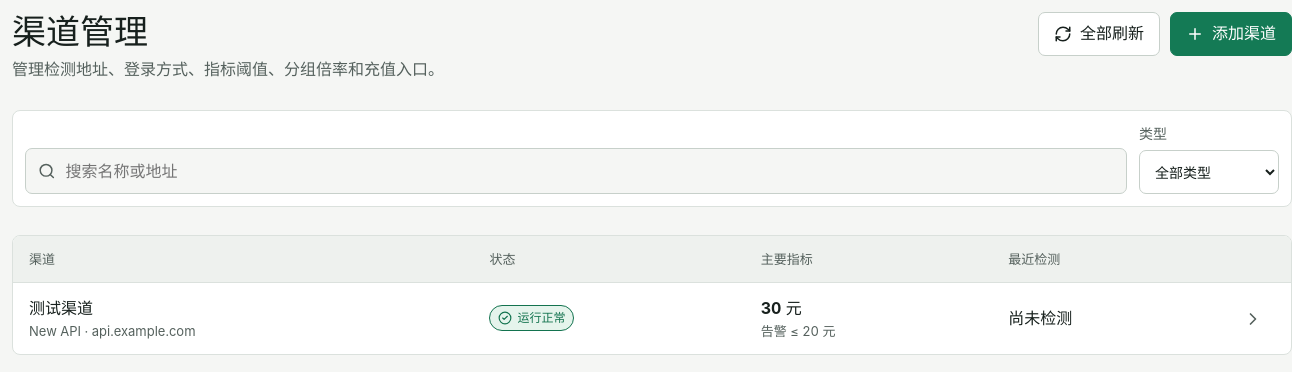
it: 渠道全部刷新 › 按钮位于添加渠道左侧，并在提交期间显示加载状态
What coordinates should you click on to do the following:
click the button "全部刷新"
I would click on:
 (1099, 34)
Its box is [1038, 12, 1160, 56].
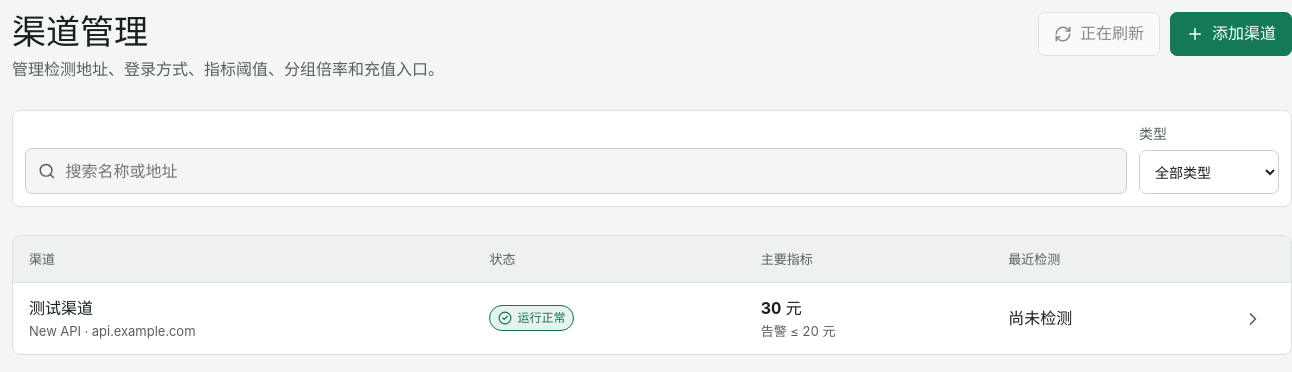
Now the button "正在刷新" is disabled, box [1038, 12, 1160, 56]
